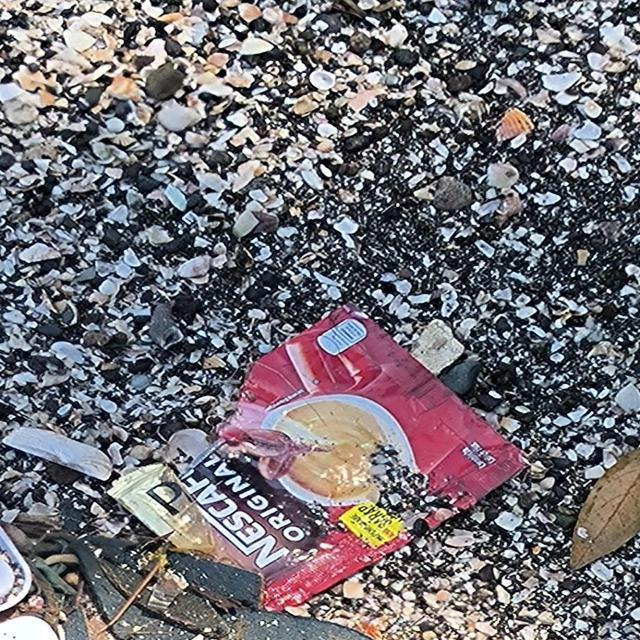litter: (104, 300, 532, 612)
